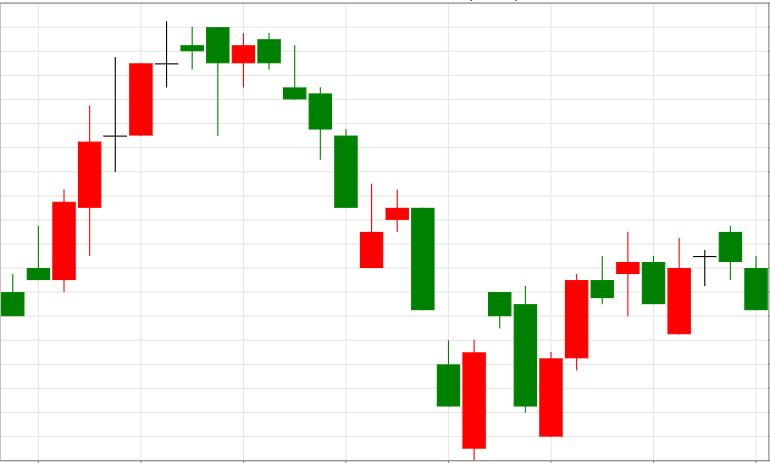bullish_engulfing_rise: (258, 33, 486, 460)
hanging_man_fall: (53, 22, 229, 292)
